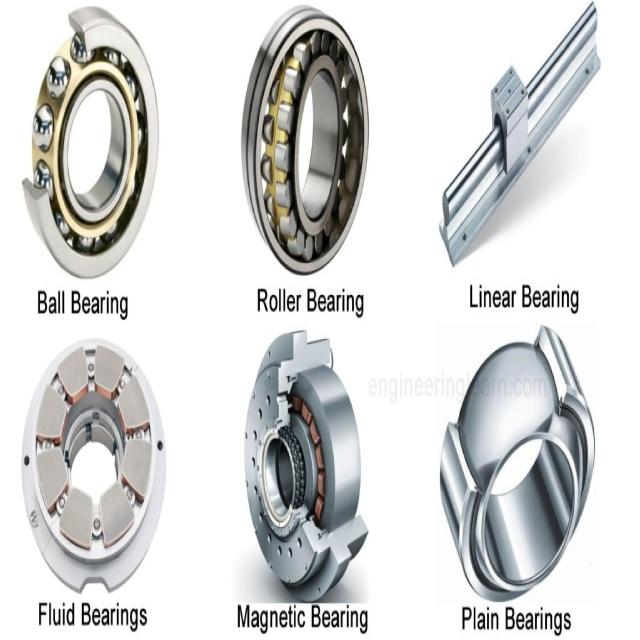Bearing: (440, 323, 598, 603), (21, 5, 159, 281), (240, 3, 369, 276)
